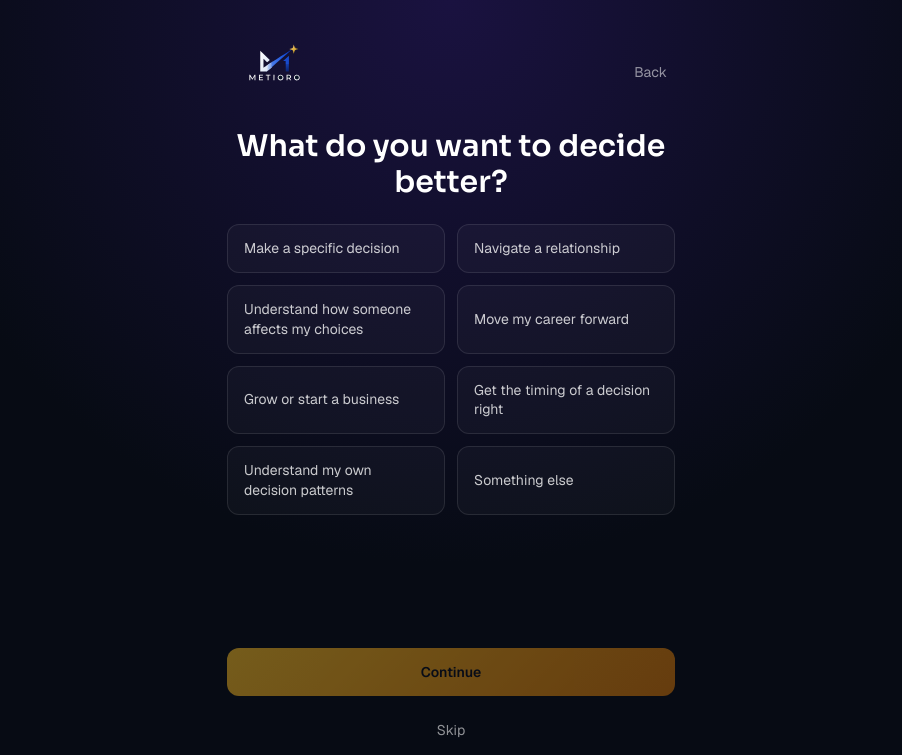
Test: GoalSelectionScreen › keeps Continue disabled until a goal is selected
Expected: the button "Continue" is disabled, [227,648,675,696]
Click the button "Move my career forward".
click(566, 320)  # box [457,285,675,354]
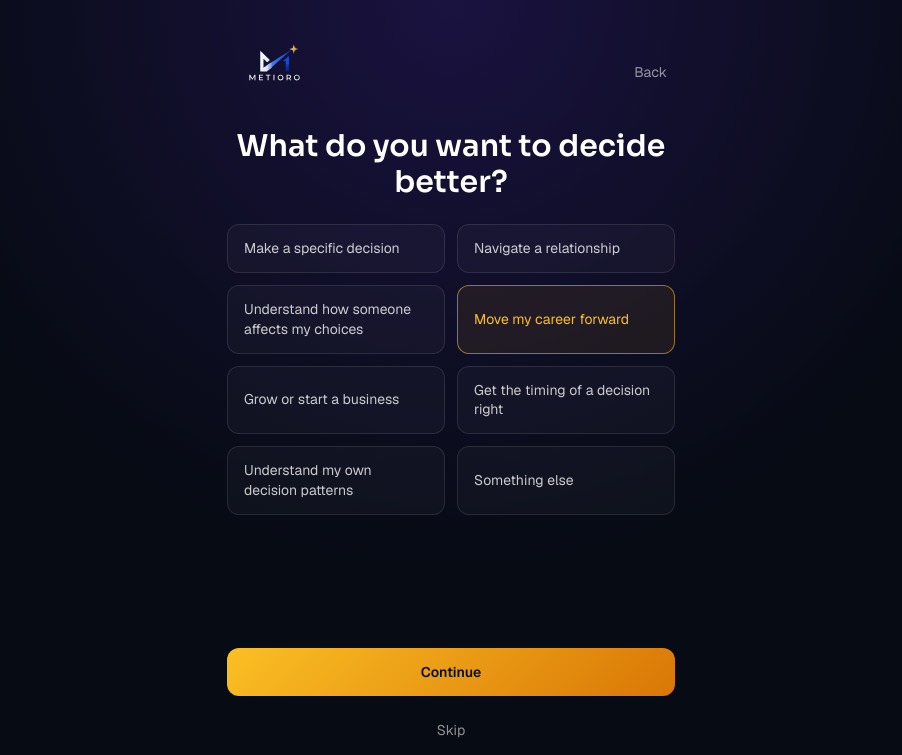
Result: the button "Continue" is enabled at [227,648,675,696]
